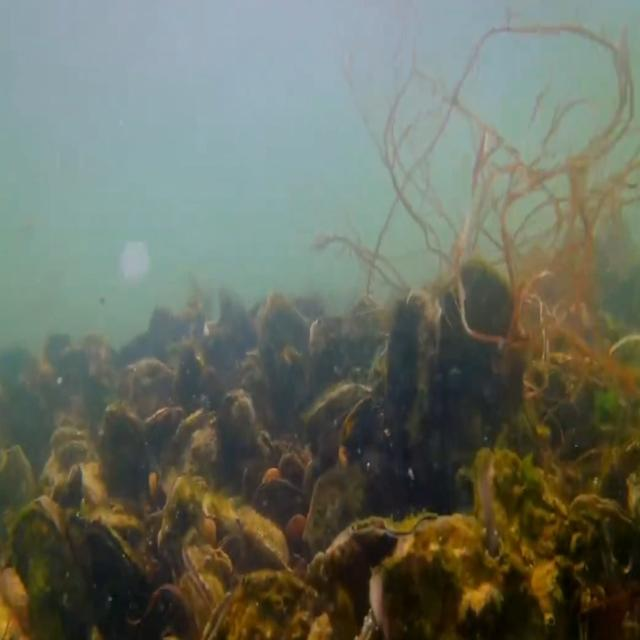Oyster-Closed: (304, 511, 437, 640), (556, 490, 640, 640), (71, 515, 158, 640), (156, 474, 211, 586), (180, 541, 225, 640), (58, 462, 84, 508)
Oyster-Indeterminate: (370, 516, 548, 640), (434, 256, 522, 449), (9, 494, 80, 640), (384, 289, 442, 449), (304, 462, 370, 562), (100, 401, 149, 512), (0, 443, 37, 554), (233, 504, 292, 571)
Oyster-Open: (469, 446, 569, 640), (302, 380, 377, 468), (168, 406, 220, 471)
